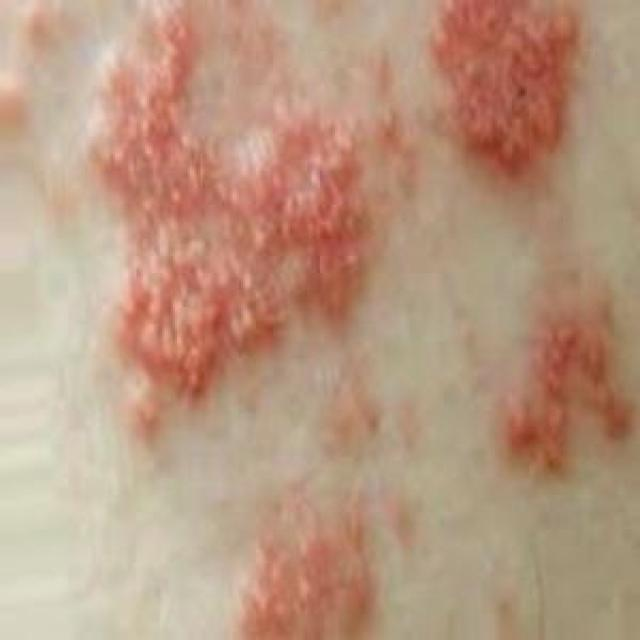Shingles: (90, 0, 370, 442), (431, 0, 581, 183), (236, 491, 404, 640), (505, 308, 640, 477)
